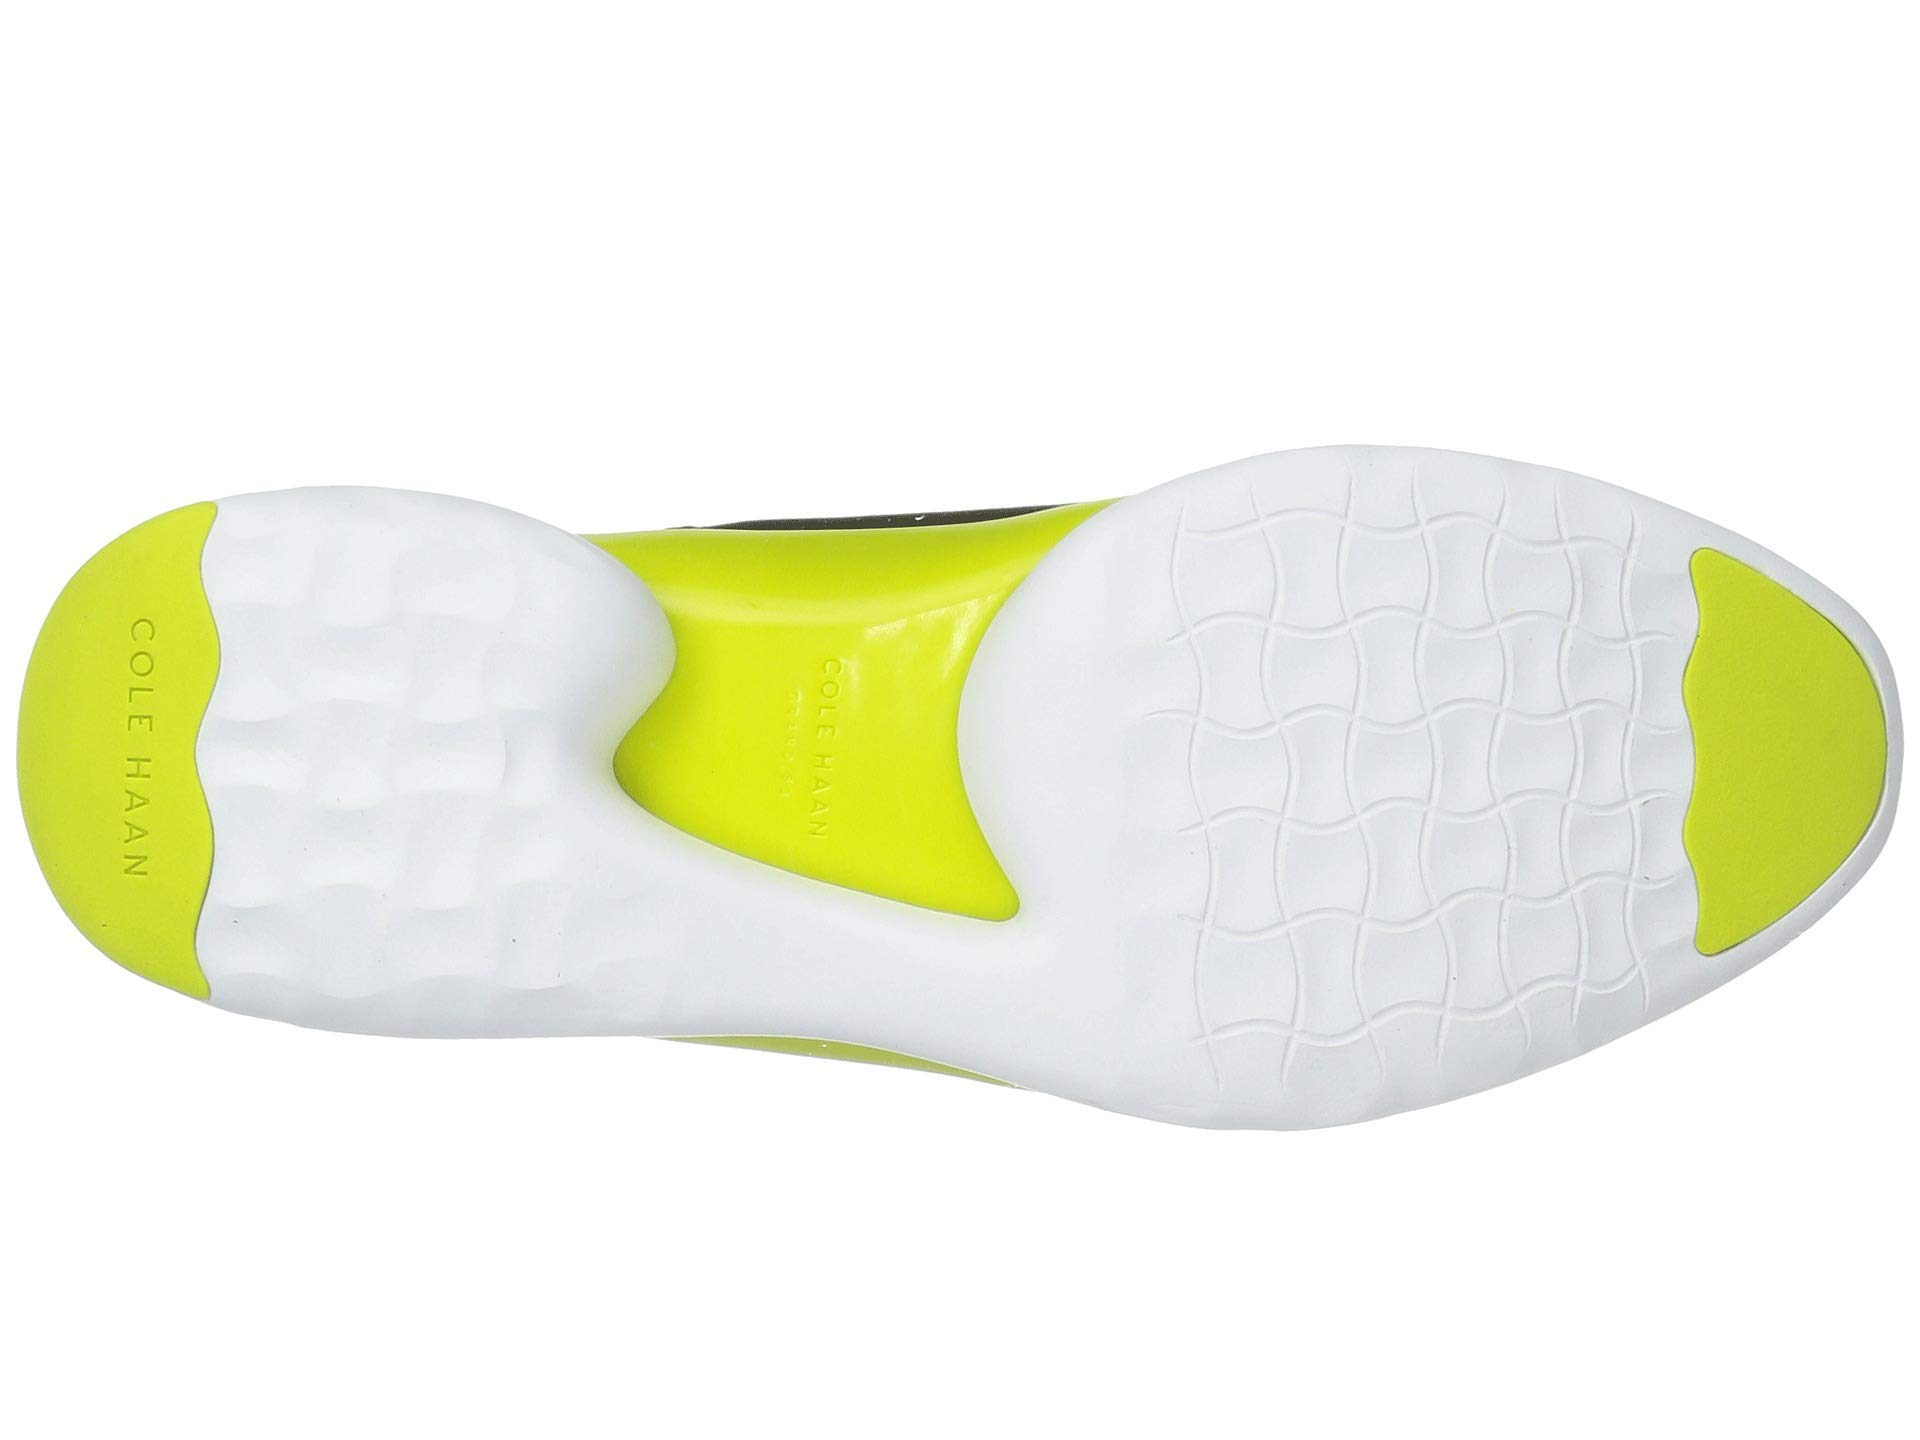bowtie: (1169, 514, 1560, 921), (1533, 484, 1751, 734), (1138, 911, 1417, 1066)
circle: (50, 602, 206, 738)
text: (50, 602, 206, 738), (70, 753, 198, 905)
triangle: (70, 753, 198, 905)
